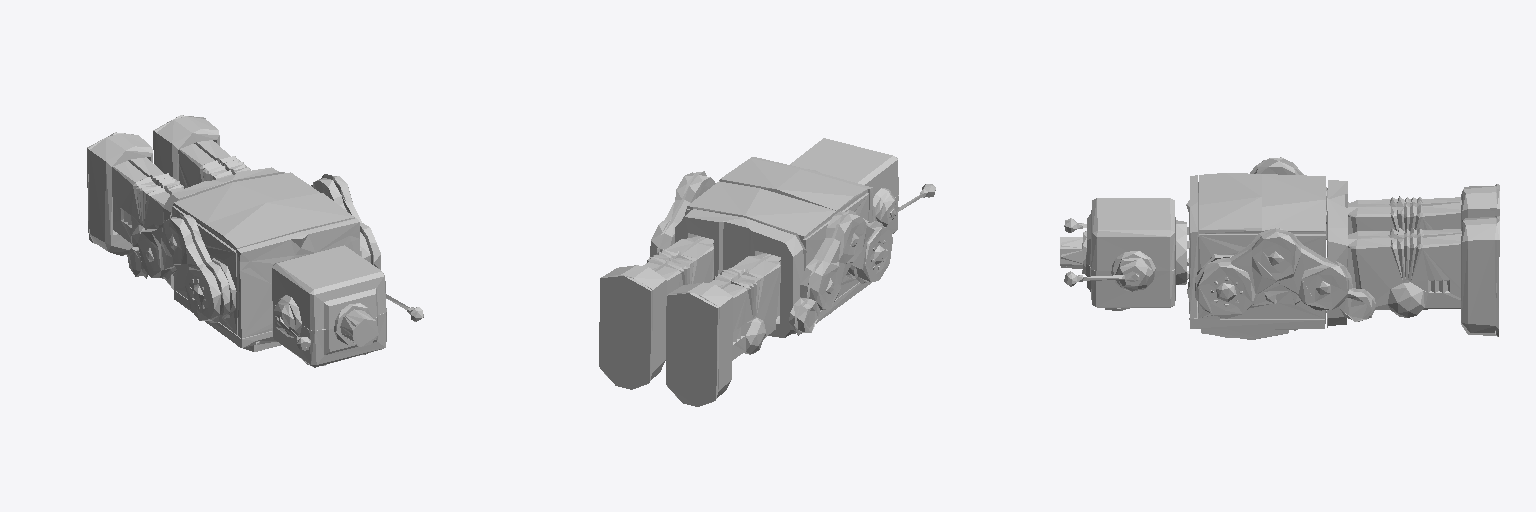
The model's file is robot_low_poly.obj.
3 renders of one model, left to right at view 1: azimuth 30°, elevation 25°; view 2: azimuth 150°, elevation 25°; view 3: azimuth 270°, elevation 25°, orthographic.
Parts seen in each view (by area): view 1: 11696_robot_v1_L3; view 2: 11696_robot_v1_L3; view 3: 11696_robot_v1_L3.
Part boxes in pixels (left/top/right/bottom): 11696_robot_v1_L3: left=87, top=115, right=423, bottom=367; 11696_robot_v1_L3: left=599, top=138, right=935, bottom=406; 11696_robot_v1_L3: left=1060, top=157, right=1499, bottom=339.
Size of the model in its own units: 15.2 by 10.59 by 32.98.